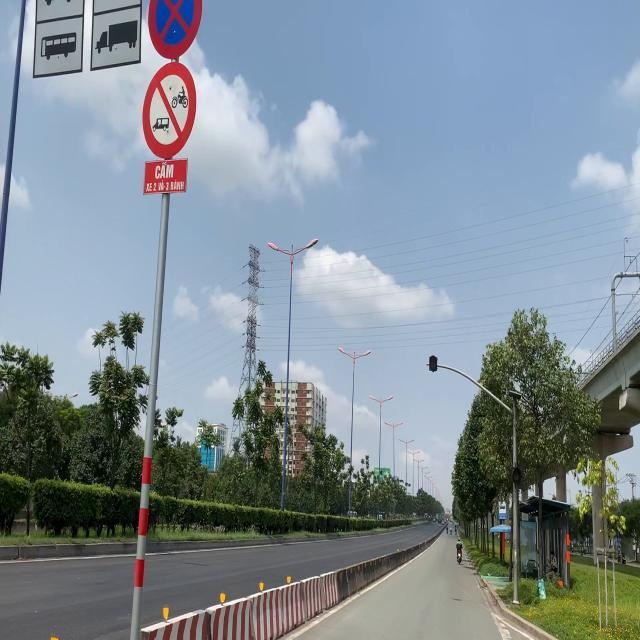Ben xe buyt: (497, 499, 508, 521)
Cam con lai: (142, 61, 196, 160)
Cam dung va do: (146, 0, 203, 59)
